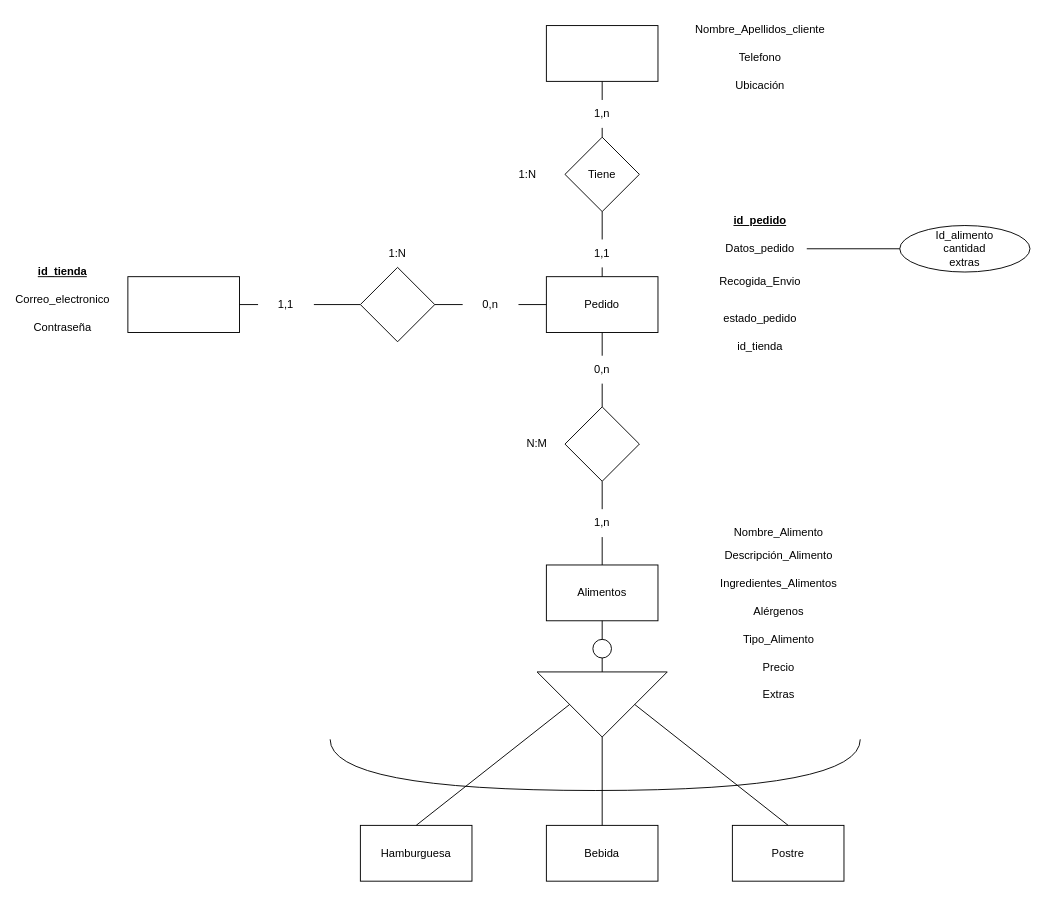
This 1046x897 diagram has some shape labels left out. Here are the shapes that lost their labels. From the top down, the box of each, then its label:
(545, 25, 658, 81): Datos_cliente
(127, 276, 239, 332): Administrador_tienda
(359, 266, 435, 342): Gestiona
(564, 406, 639, 481): Contiene
